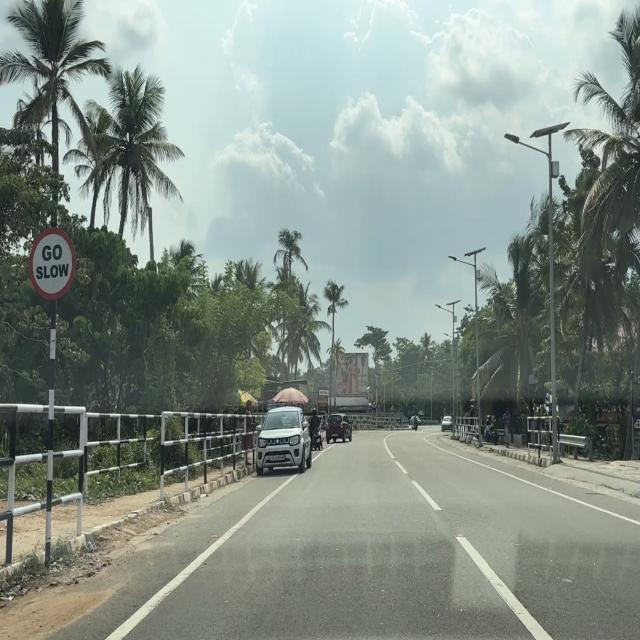GO_SLOW: (25, 222, 78, 302)
